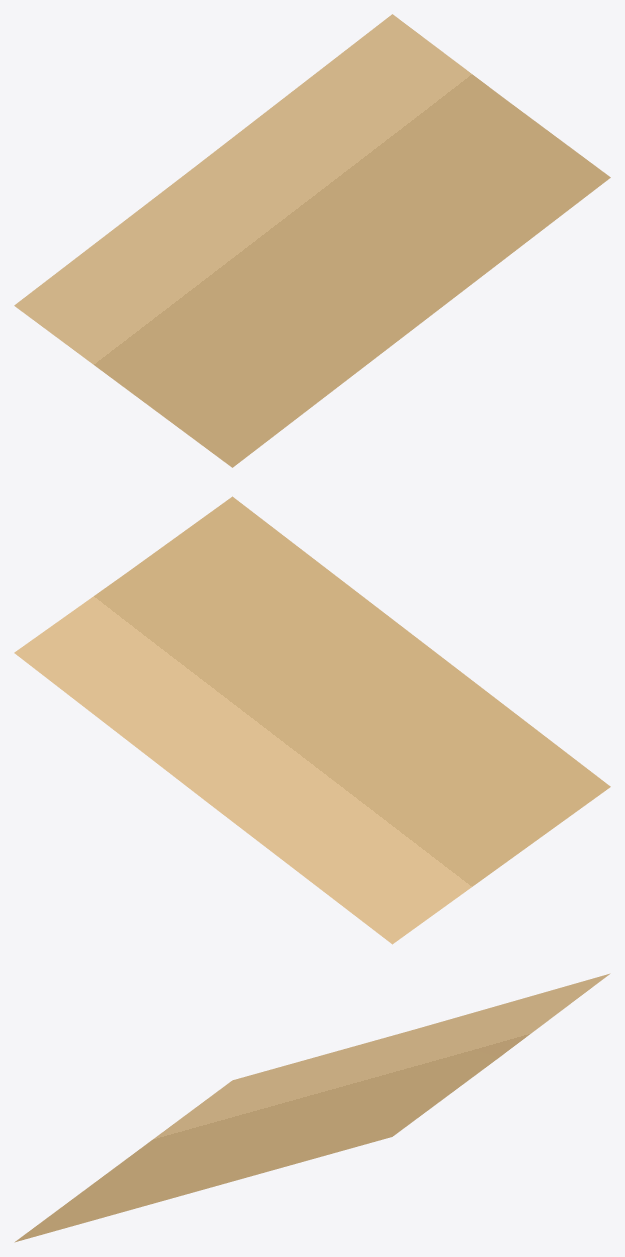
3 views of the same model, one above another, from view 1: azimuth 30°, elevation 25°; view 2: azimuth 150°, elevation 25°; view 3: azimuth 330°, elevation 25° (orthographic).
Size of the model in its own units: 1 by 0.509 by 1.
Materials: 1 (1 with a texture image).
